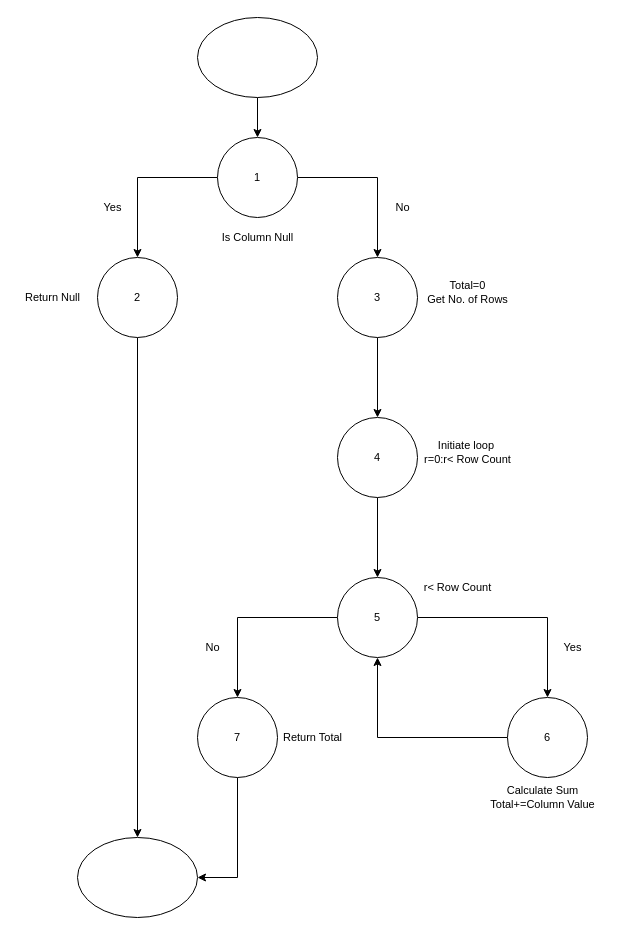
The diagram is 619 pixels wide and 935 high, and some of its shapes have lost their labels. The shapes that lost their labels are listed below. From the top down, each one's centre as x and y in pixels, then its label:
point (257, 57): Start
point (137, 877): End
